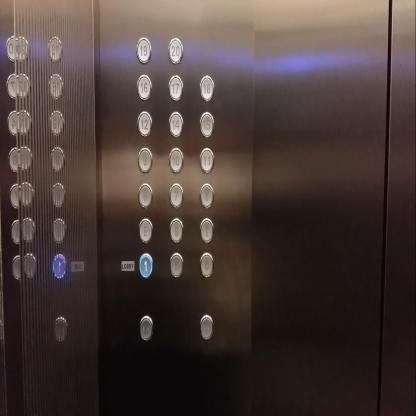0: (199, 250, 215, 280)
1: (138, 251, 153, 278)
10: (168, 145, 184, 175)
11: (199, 145, 215, 176)
12: (136, 108, 153, 139)
14: (167, 110, 184, 138)
15: (198, 109, 216, 140)
16: (136, 71, 152, 103)
17: (167, 72, 184, 104)
18: (198, 74, 215, 103)
19: (135, 35, 152, 66)
20: (167, 35, 184, 66)
7: (168, 180, 185, 210)
8: (198, 180, 215, 211)
9: (137, 145, 153, 175)
E: (137, 215, 154, 245)
G: (168, 216, 185, 244)
I: (199, 216, 214, 244)
blur: (198, 312, 214, 342), (137, 181, 153, 210)
close: (138, 313, 154, 343)
empty: (168, 251, 184, 279)
unknown: (46, 33, 63, 64), (47, 72, 64, 100), (52, 314, 69, 342), (51, 251, 67, 280), (49, 144, 65, 172), (50, 180, 66, 208), (48, 109, 65, 135), (51, 216, 66, 244)
